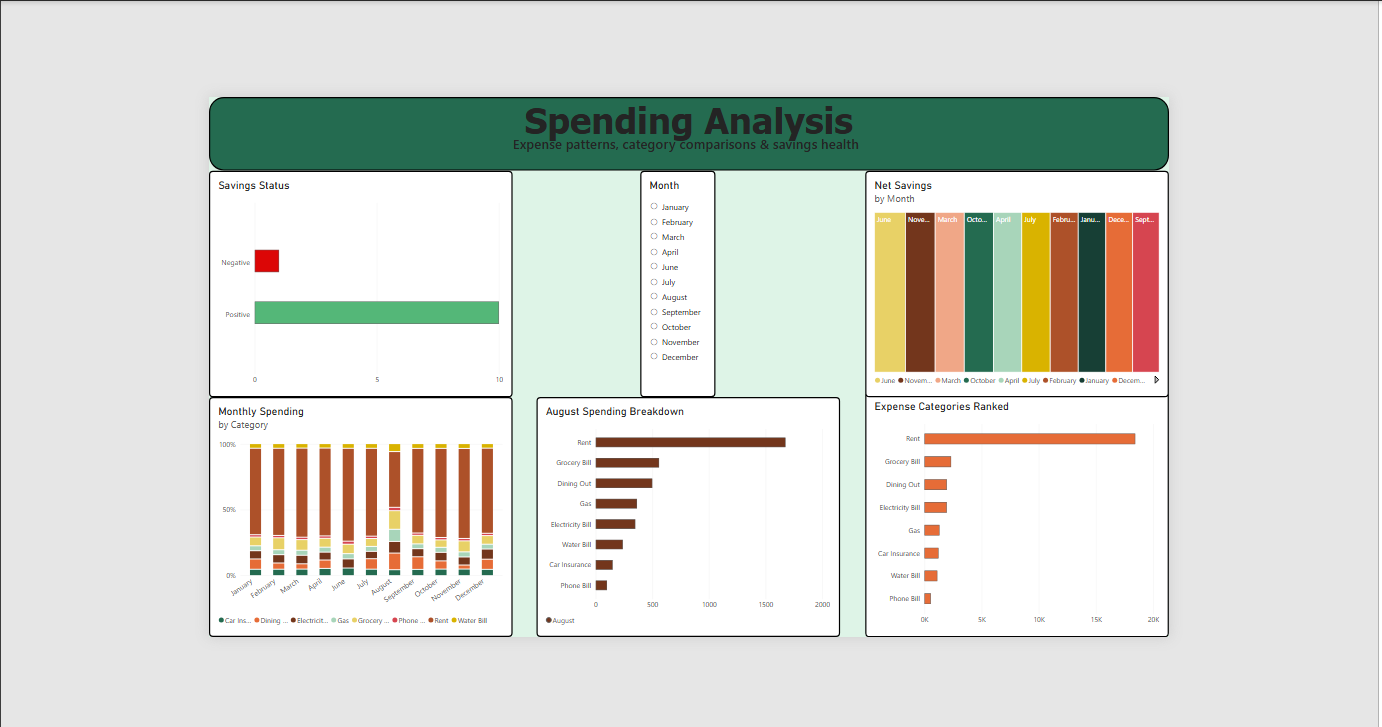

The dashboard page shown, as its layout file describes it:
{"tool":"powerbi","page":{"name":"Spending & Savings Analysis","canvas":[1920,1080],"ordinal":1},"visuals":[{"type":"clusteredBarChart","title":"August Spending Breakdown","fields":{"Category":["Expense Category Analysis.Expense Category"],"Series":["Monthly_Expenses.Month"],"Y":["Sum(Expense Category Analysis.Expense Amount)"]},"box":[655,600,607,480],"z":0},{"type":"clusteredBarChart","title":"Savings Status","fields":{"Category":["Monthly_Expenses.Savings Status"],"Y":["CountNonNull(Monthly_Expenses.Month)"]},"box":[0,147.5,607.5,452.5],"z":1000},{"type":"clusteredBarChart","title":"Expense Categories Ranked","fields":{"Category":["Monthly_Expenses (2).Expense Category"],"Y":["Sum(Monthly_Expenses (2).Expense Amount)"]},"box":[1312.5,590,607.5,490],"z":2000},{"type":"hundredPercentStackedColumnChart","title":"Monthly Spending ","fields":{"Category":["Monthly_Expenses.Month"],"Series":["Expense Category Analysis.Expense Category"],"Y":["Sum(Expense Category Analysis.Expense Amount)"]},"box":[0,600,607,480],"z":3000},{"type":"treemap","fields":{"Group":["Monthly_Expenses.Month"],"Values":["Sum(Monthly_Expenses.Net Savings)"]},"box":[1312.5,147.5,607.5,452.5],"z":4000},{"type":"textbox","box":[0,0,1920,147.5],"z":5000},{"type":"textbox","box":[607.5,75,725,75],"z":6000},{"type":"listSlicer","fields":{"Values":["Monthly_Expenses.Month"]},"box":[862.5,147.5,150,452.5],"z":7000}]}

Visuals, with their boxes on the page's 1920x1080 design canvas (x1, y1, x2, y2). These are canvas units, not pixel positions in the 1382x727 screenshot, which may show the page scaled, cropped or inside an application window:
"August Spending Breakdown" clusteredBarChart: [655,600,1262,1080]
"Savings Status" clusteredBarChart: [0,148,608,600]
"Expense Categories Ranked" clusteredBarChart: [1312,590,1920,1080]
"Monthly Spending " hundredPercentStackedColumnChart: [0,600,607,1080]
treemap - Monthly_Expenses.Month x Sum(Monthly_Expenses.Net Savings): [1312,148,1920,600]
textbox: [0,0,1920,148]
textbox: [608,75,1332,150]
listSlicer - Monthly_Expenses.Month: [862,148,1012,600]
